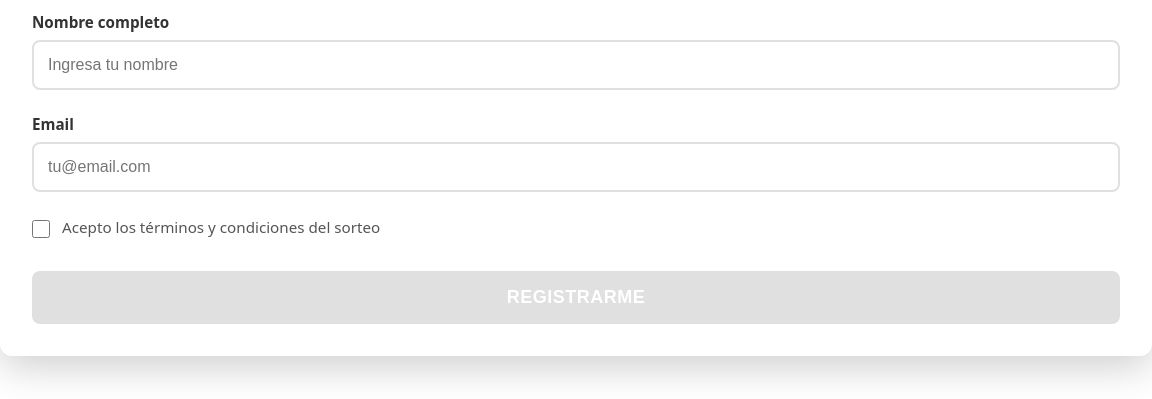
Test case: RegistrationForm › botón de envío se habilita cuando todos los campos son válidos y checkbox está marcado
Type "Juan Pérez" into the field with id "name". click: (576, 65)
box: [32, 40, 1120, 90]
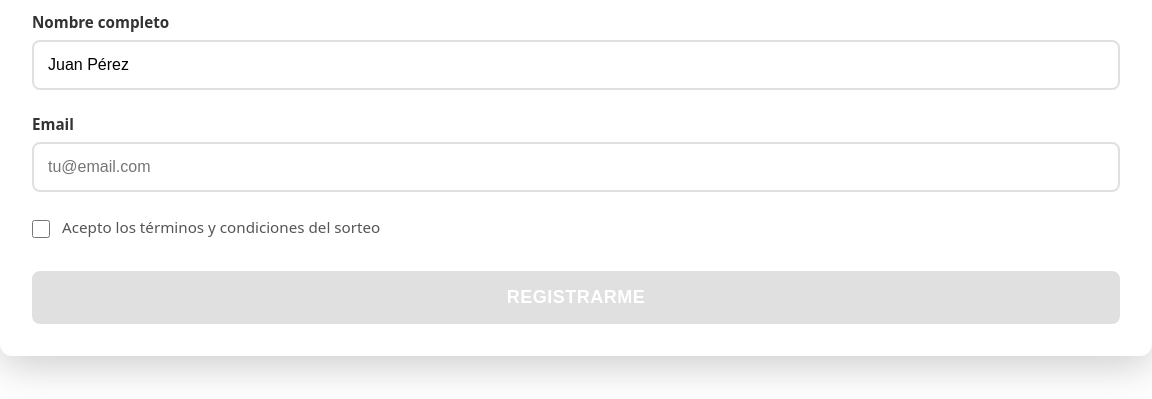
Type "juan@example.com" into the field with id "email". click: (576, 167)
box: [32, 142, 1120, 192]
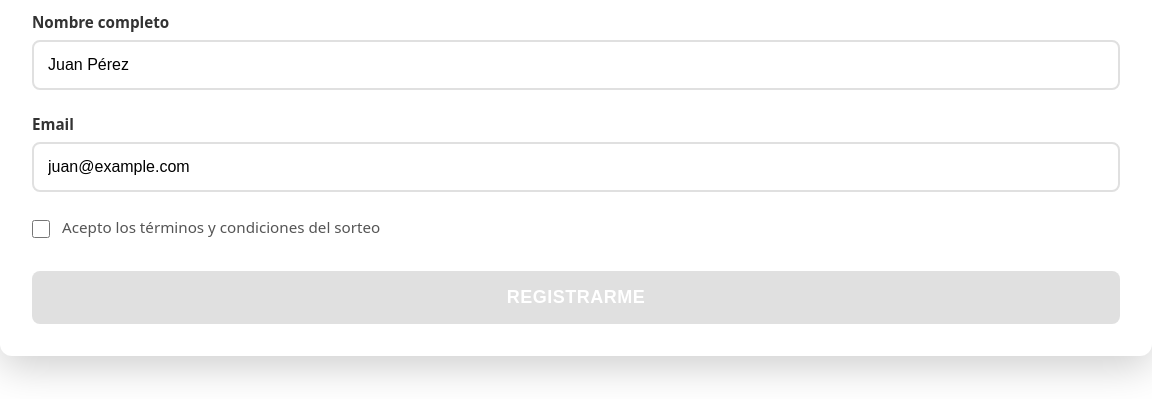
Click the checkbox with id "terms". click: click(41, 229)
box: [32, 220, 50, 238]
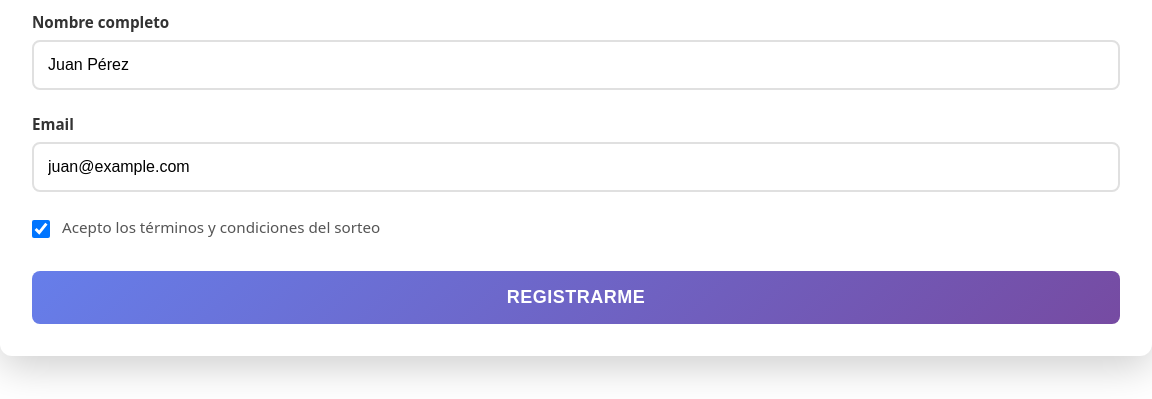
Now the submit button is enabled, box [32, 271, 1120, 324]
